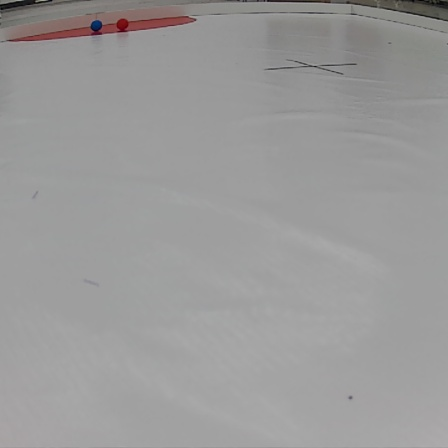blue: (91, 20, 101, 33)
red: (117, 18, 131, 32)
red_base: (4, 17, 201, 34)
